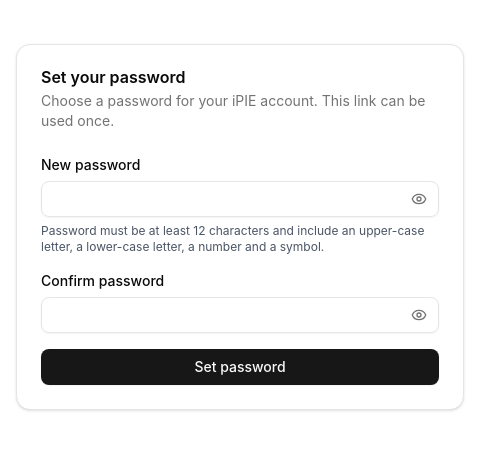
Test: SetPasswordPage › explains that the link is spent when the server rejects the token
Type "E2eTestPass!23" into the password field labelled "New password" at (240, 199), box [41,181,439,217]
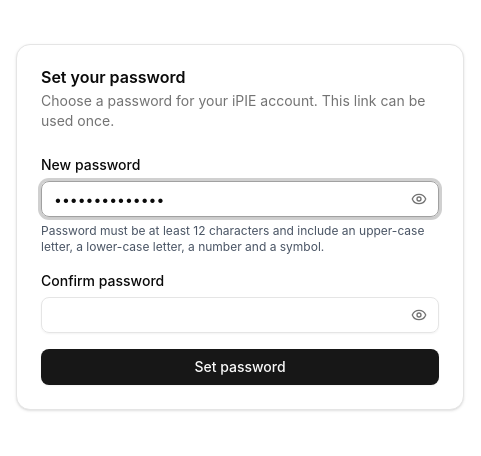
Type "E2eTestPass!23" into the password field labelled "Confirm password" at (240, 315), box [41,297,439,333]
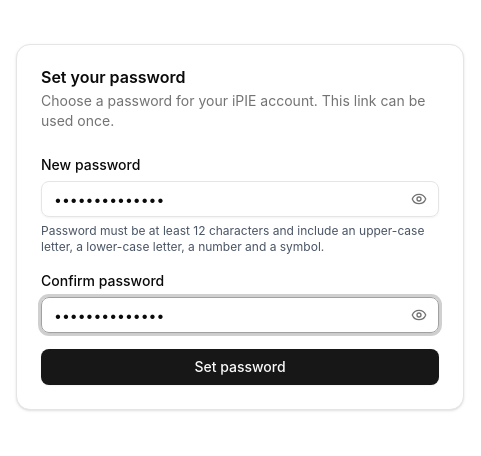
Click the button "Set password" at (240, 367), box [41,349,439,385]
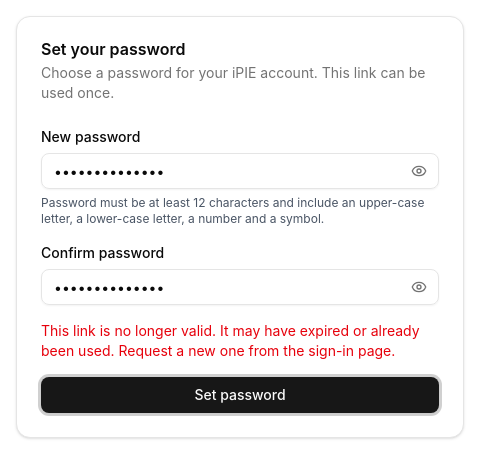
Expected: the message shows "no longer valid", [41,322,420,359]
